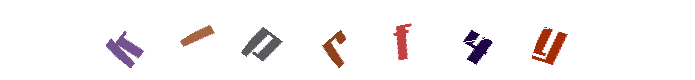4: (428, 0, 508, 80)
F: (307, 0, 387, 80)
K: (100, 0, 180, 80)
L: (226, 0, 306, 80)
P: (282, 0, 362, 80)
R: (299, 0, 379, 80)
Y: (437, 0, 517, 80)
